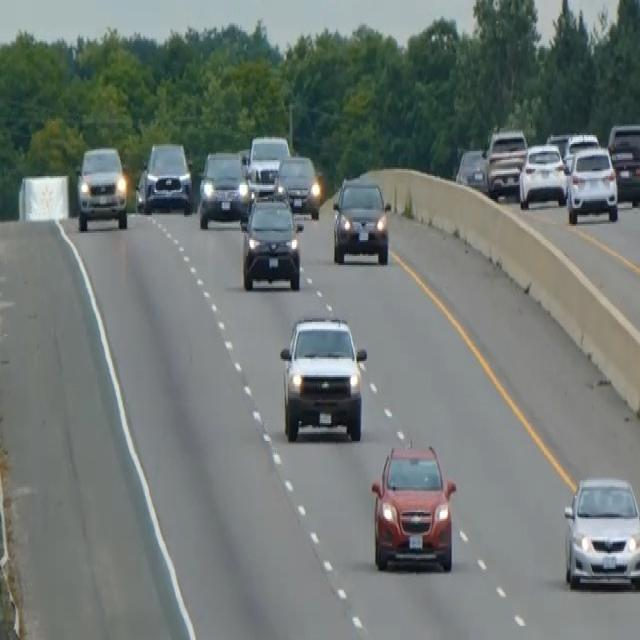car: (279, 313, 367, 441), (370, 441, 456, 571), (562, 473, 639, 590), (331, 176, 390, 265), (135, 141, 193, 215), (198, 148, 251, 228), (566, 144, 618, 224), (518, 140, 567, 208), (274, 153, 321, 219), (485, 128, 527, 199), (243, 134, 290, 196), (607, 121, 639, 204), (455, 146, 488, 192), (564, 132, 599, 172), (546, 130, 572, 160)
jeep: (239, 194, 304, 292), (74, 142, 129, 231)
